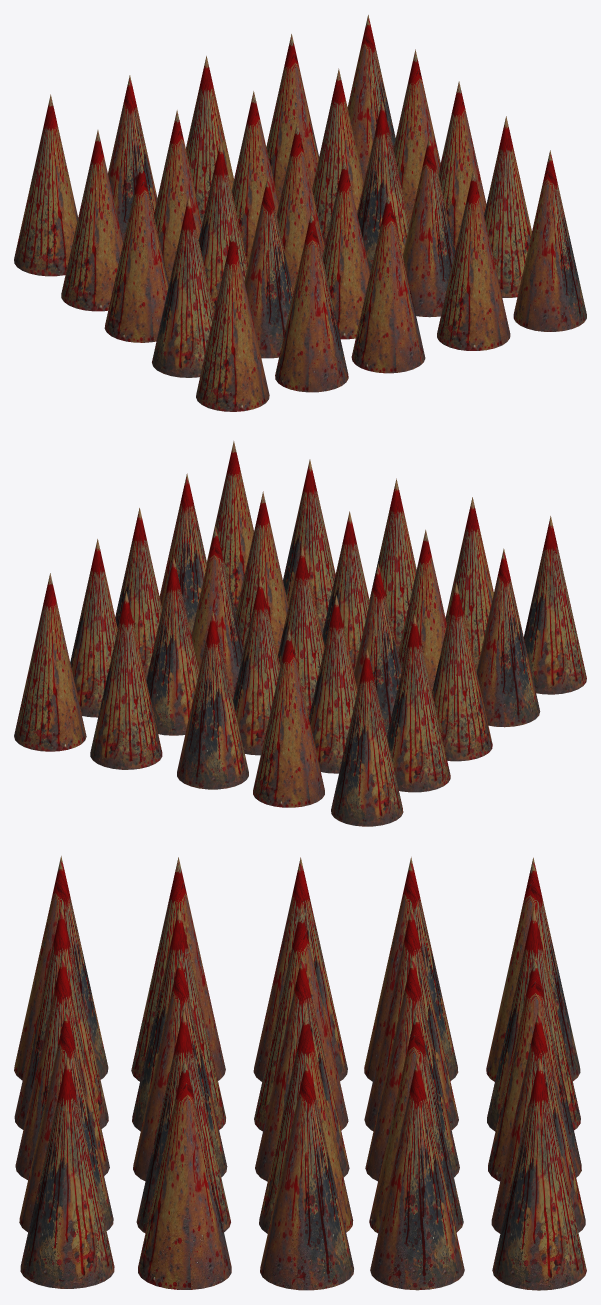
Rendered from piques.FBX.
3 views of the same model, one above another, from view 1: azimuth 30°, elevation 25°; view 2: azimuth 150°, elevation 25°; view 3: azimuth 270°, elevation 25° (orthographic). The views are drawn at different scales.
Visible parts, largest first — view 1: Cône24, Cône22, Cône25, Cône21, Cône23, Cône18, Cône19, Cône20, Cône17, Cône07, Cône01, Cône02 (+13 smaller); view 2: Cône11, Cône18, Cône12, Cône16, Cône13, Cône17, Cône20, Cône25, Cône19, Cône15, Cône09, Cône14 (+13 smaller); view 3: Cône21, Cône05, Cône08, Cône13, Cône14, Cône11, Cône02, Cône10, Cône03, Cône23, Cône17, Cône18 (+13 smaller).
Part boxes in pixels (x1=…): Cône24: x1=275, y1=210, x2=348, y2=392; Cône22: x1=437, y1=169, x2=510, y2=350; Cône25: x1=196, y1=230, x2=269, y2=411; Cône21: x1=513, y1=150, x2=586, y2=331; Cône23: x1=351, y1=191, x2=425, y2=373; Cône18: x1=14, y1=94, x2=78, y2=276; Cône19: x1=104, y1=161, x2=168, y2=342; Cône20: x1=152, y1=196, x2=214, y2=377; Cône17: x1=61, y1=130, x2=123, y2=311; Cône07: x1=403, y1=135, x2=455, y2=317; Cône01: x1=244, y1=176, x2=293, y2=358; Cône02: x1=322, y1=157, x2=370, y2=339; Cône11: x1=177, y1=611, x2=248, y2=789; Cône18: x1=331, y1=647, x2=403, y2=826; Cône12: x1=90, y1=591, x2=162, y2=769; Cône16: x1=253, y1=629, x2=324, y2=807; Cône13: x1=14, y1=573, x2=86, y2=751; Cône17: x1=387, y1=613, x2=450, y2=792; Cône20: x1=476, y1=548, x2=540, y2=727; Cône25: x1=524, y1=516, x2=586, y2=694; Cône19: x1=432, y1=582, x2=492, y2=761; Cône15: x1=146, y1=557, x2=199, y2=735; Cône09: x1=309, y1=595, x2=357, y2=773; Cône14: x1=70, y1=539, x2=117, y2=717; Cône21: x1=20, y1=1055, x2=114, y2=1288; Cône05: x1=138, y1=1057, x2=231, y2=1289; Cône08: x1=260, y1=1057, x2=353, y2=1290; Cône13: x1=492, y1=1057, x2=586, y2=1290; Cône14: x1=370, y1=1057, x2=464, y2=1290; Cône11: x1=488, y1=955, x2=581, y2=1181; Cône02: x1=133, y1=955, x2=227, y2=1181; Cône10: x1=365, y1=955, x2=459, y2=1181; Cône03: x1=255, y1=955, x2=349, y2=1181; Cône23: x1=15, y1=954, x2=109, y2=1179; Cône17: x1=364, y1=857, x2=458, y2=1081; Cône18: x1=486, y1=857, x2=580, y2=1081.
Bounding box in the file's own units: 48.27 × 19.93 × 48.42.
1 material, 1 textured.
